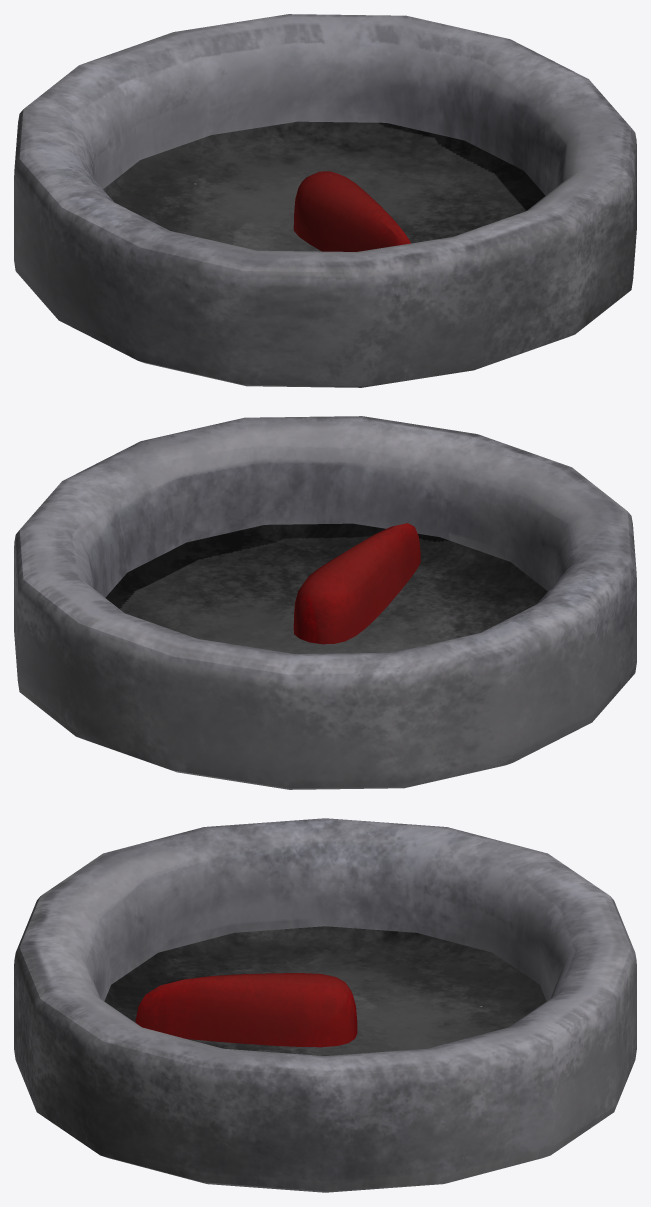
Rendered from compass.fbx.
3 renders of one model, top to bottom at view 1: azimuth 30°, elevation 25°; view 2: azimuth 150°, elevation 25°; view 3: azimuth 270°, elevation 25°, orthographic.
Parts seen in each view (by area): view 1: compass_body, compass_needle; view 2: compass_body, compass_needle; view 3: compass_body, compass_needle.
Part boxes in pixels (left/top/right/bottom): compass_body: left=14, top=14, right=636, bottom=387; compass_needle: left=293, top=171, right=410, bottom=251; compass_body: left=14, top=416, right=636, bottom=789; compass_needle: left=293, top=523, right=420, bottom=644; compass_body: left=14, top=818, right=636, bottom=1192; compass_needle: left=135, top=973, right=357, bottom=1047.
Size of the model in its own units: 65.06 by 14.84 by 65.06.
1 material, 1 textured.
